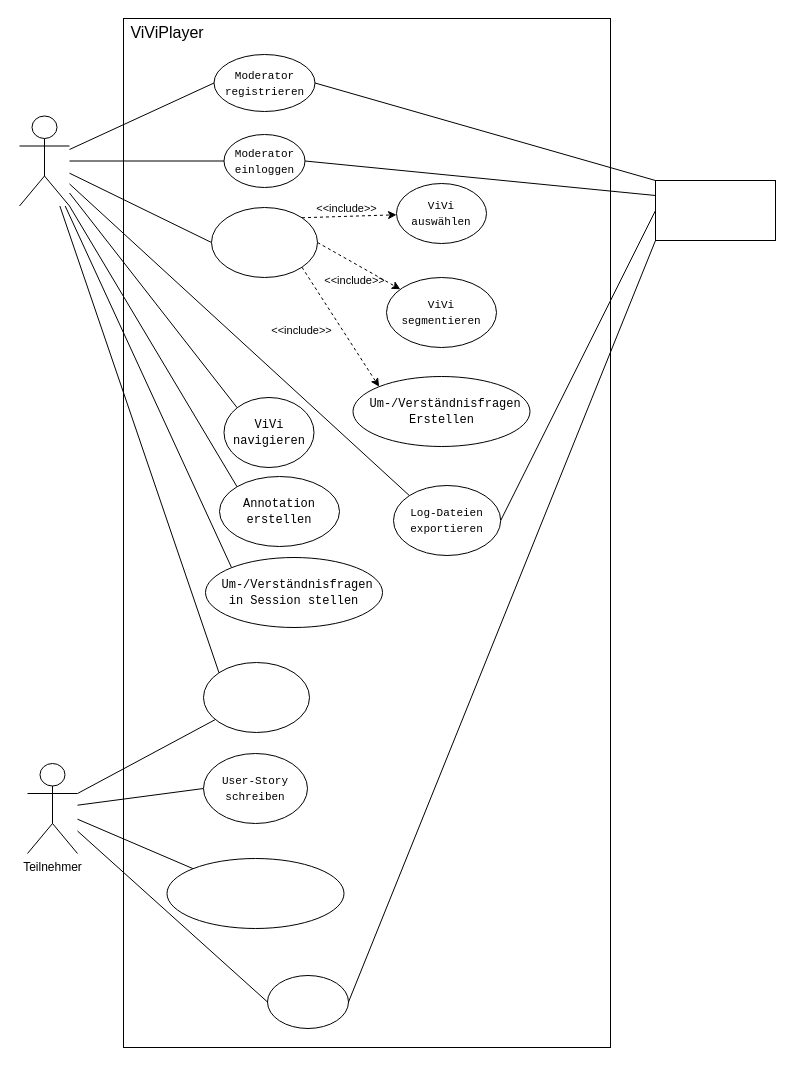
Image size: 793x1065. Some labels were removed from this diagram. The shapes that lost their labels are listed below. From the top down, each one's centre as x and y in pixels, then its label:
At (44,160): "Moderator".
At (715,210): "<<actor>> Server- Dateisystem".
At (264,242): "Session vorbereiten".
At (256,697): "In Sesssion kommentieren".
At (255,893): "An Um-/Verständnisfragen teilnehmen".
At (307,1001): "Teilnehmer einloggen".
